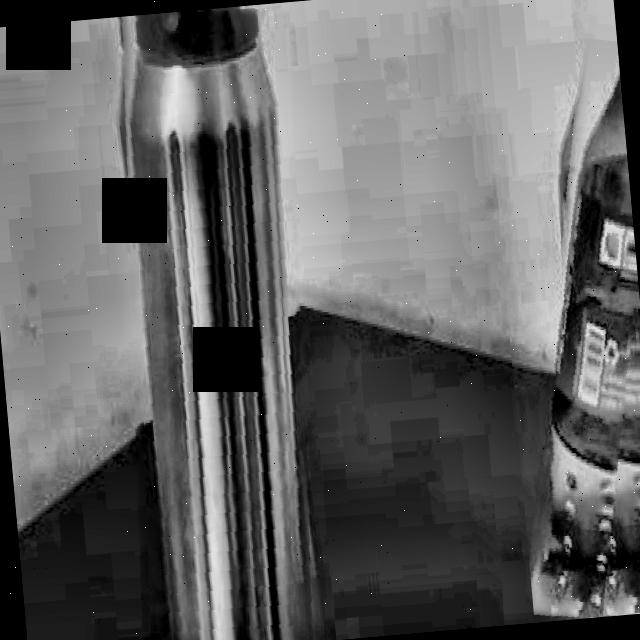bottle: (125, 8, 312, 640), (531, 66, 636, 617)
